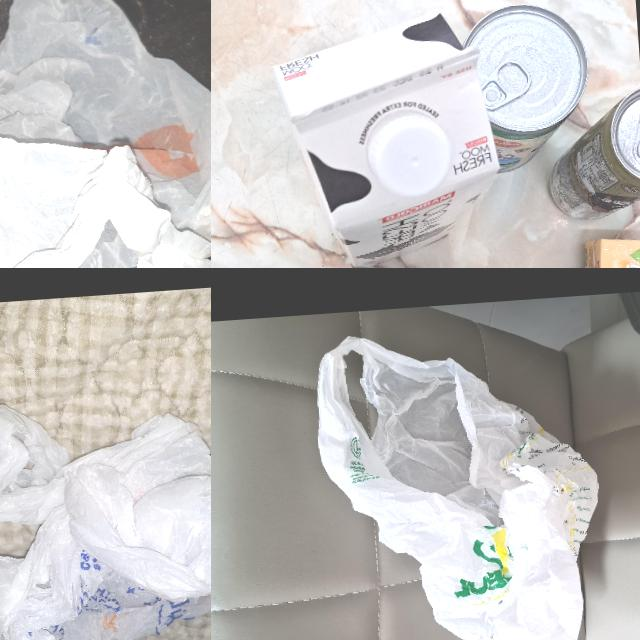aba de lata: (482, 59, 536, 115), (634, 115, 640, 166)
caixinha: (270, 12, 504, 268), (575, 228, 640, 268)
lata: (457, 1, 591, 168), (539, 80, 640, 221)
sacola plástica: (307, 319, 612, 640), (0, 0, 211, 268), (0, 383, 211, 640)
tampa plástica: (364, 106, 452, 202)
